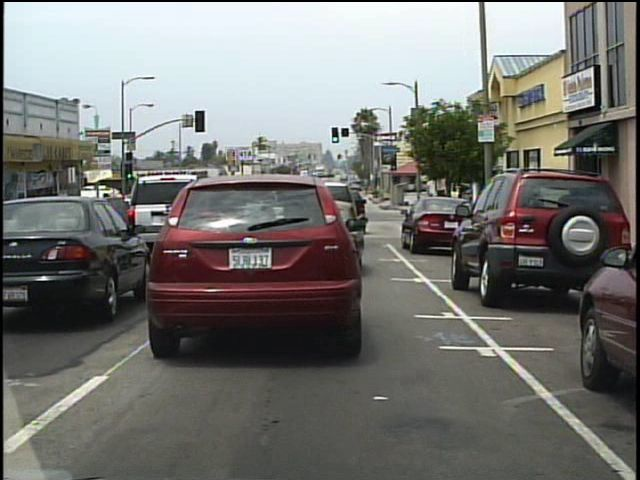person: (461, 187, 475, 220), (445, 191, 457, 228), (437, 192, 447, 229)
